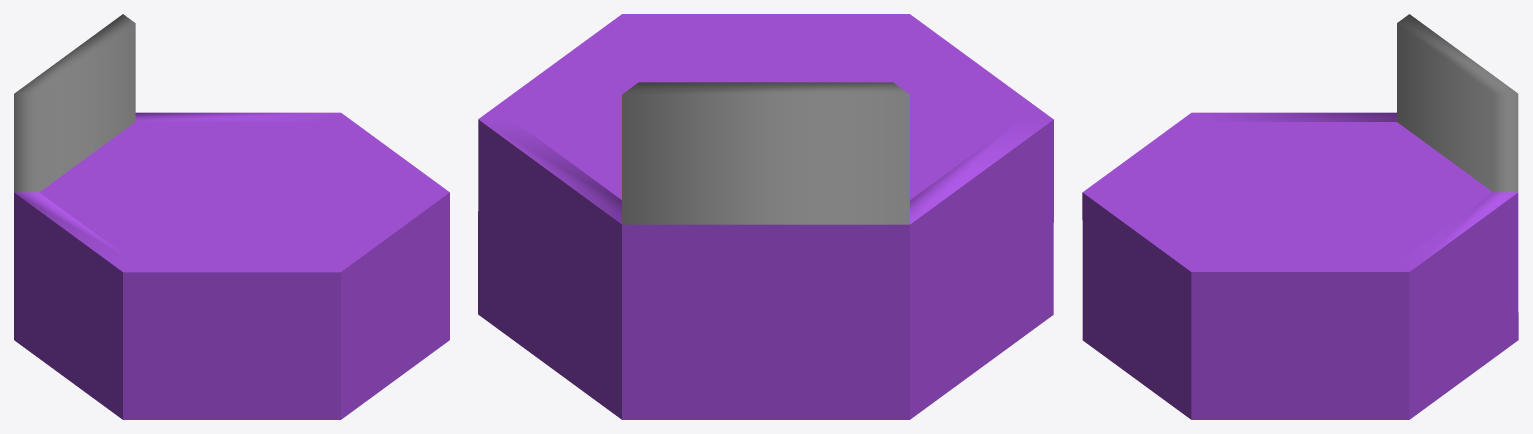
File: NormalTile1WallStage3.fbx
The picture shows the model from 3 angles, left to right: view 1: azimuth 30°, elevation 25°; view 2: azimuth 150°, elevation 25°; view 3: azimuth 270°, elevation 25°; orthographic projection. The views are drawn at different scales.
Visible parts, largest first — view 1: NormalTile1WallStage3; view 2: NormalTile1WallStage3; view 3: NormalTile1WallStage3.
Part boxes in pixels (x1=…): NormalTile1WallStage3: x1=14, y1=14, x2=449, y2=419; NormalTile1WallStage3: x1=478, y1=14, x2=1053, y2=419; NormalTile1WallStage3: x1=1082, y1=14, x2=1518, y2=419.
Size of the model in its own units: 173 by 125 by 200.
